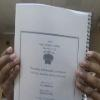notebook: (12, 2, 92, 99)
